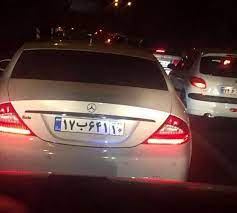car: (55, 115, 124, 136), (219, 86, 237, 98)
